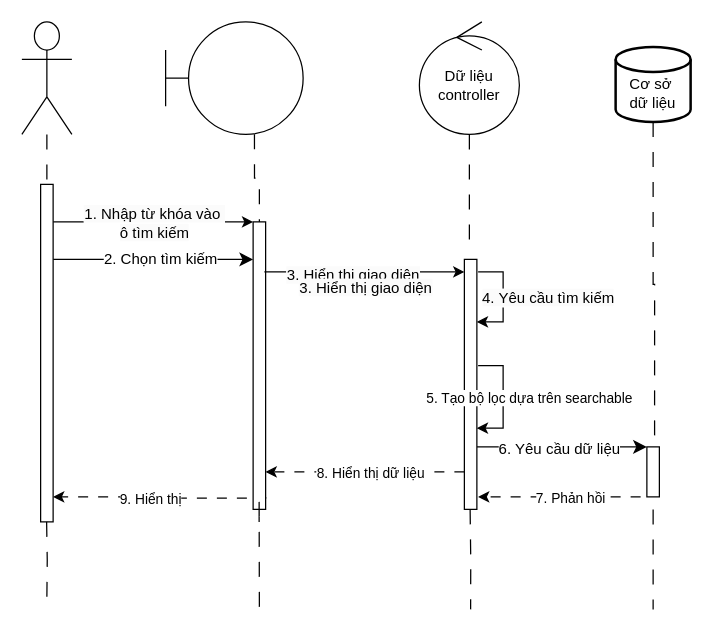
This 714x633 diagram has some shape labels left out. Each missing label, with the centre of its shape:
Admin: (46,77)
Giao diện quản lý danh mục lớp: (233,77)
